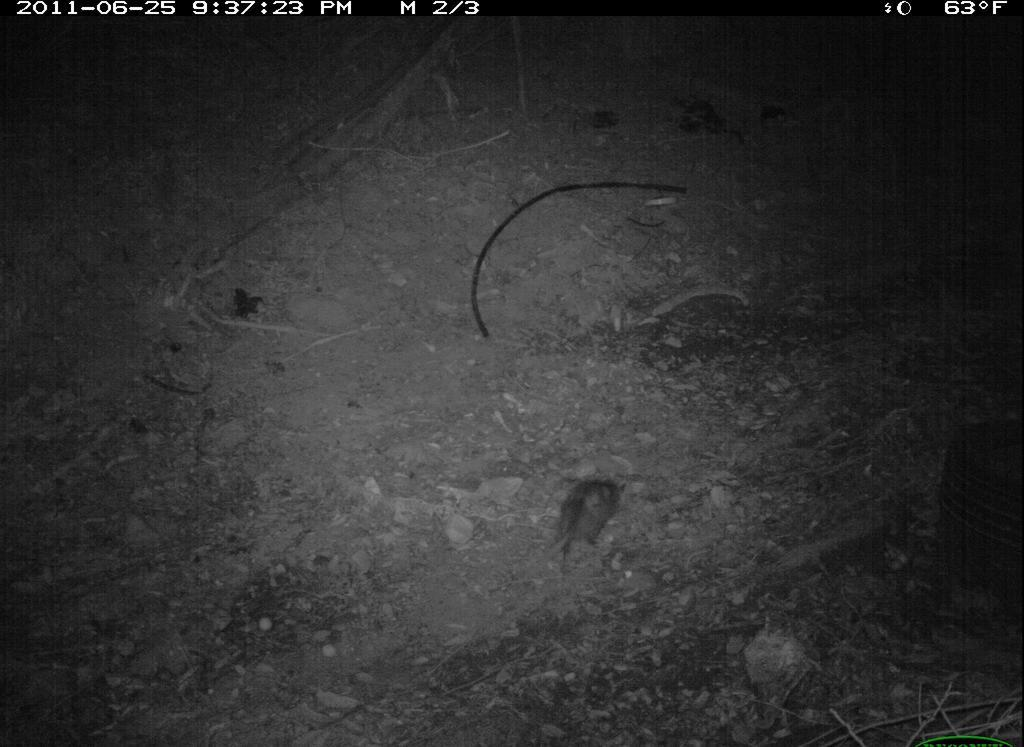opossum: (514, 469, 637, 582)
